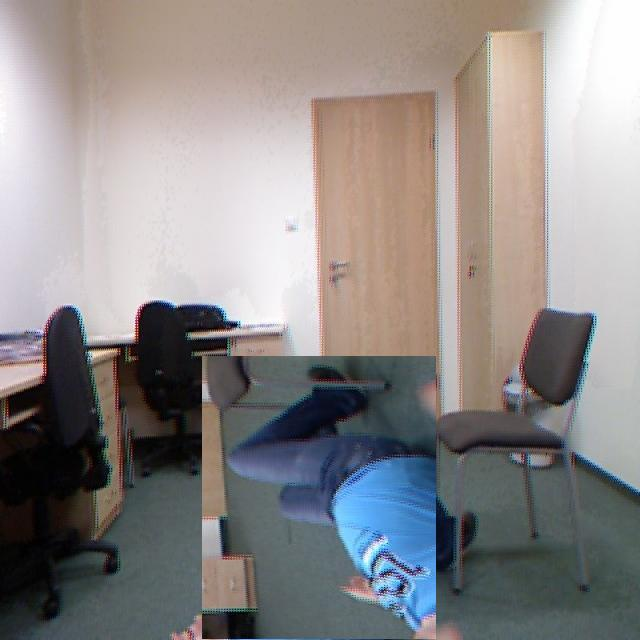Fall: (205, 338, 462, 639)
